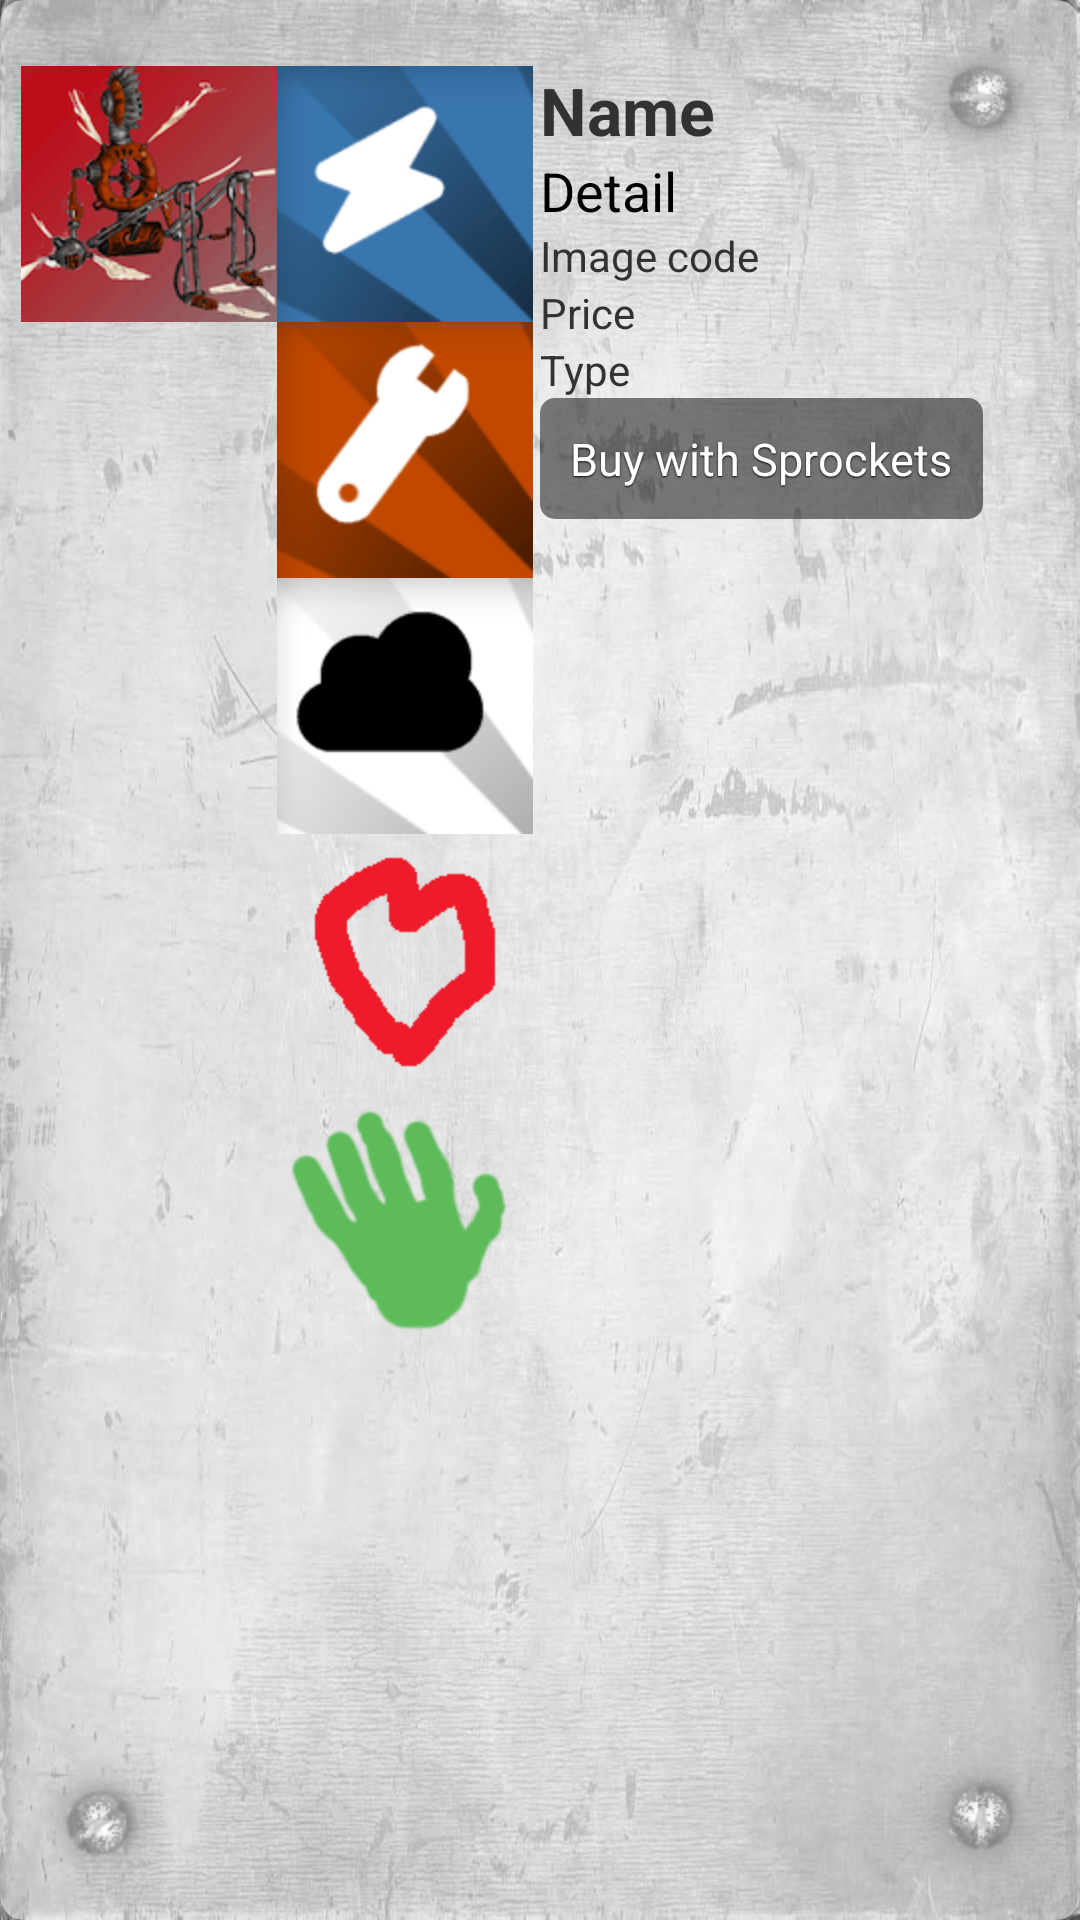

Icons on this 1080px x 1920px Android screen, each with the point to tap as (x,y):
bot: (149,194)
power electrical: (405,194)
power hand size: (399,1221)
power life: (391,969)
power mechanical: (405,450)
power steam: (414,721)
